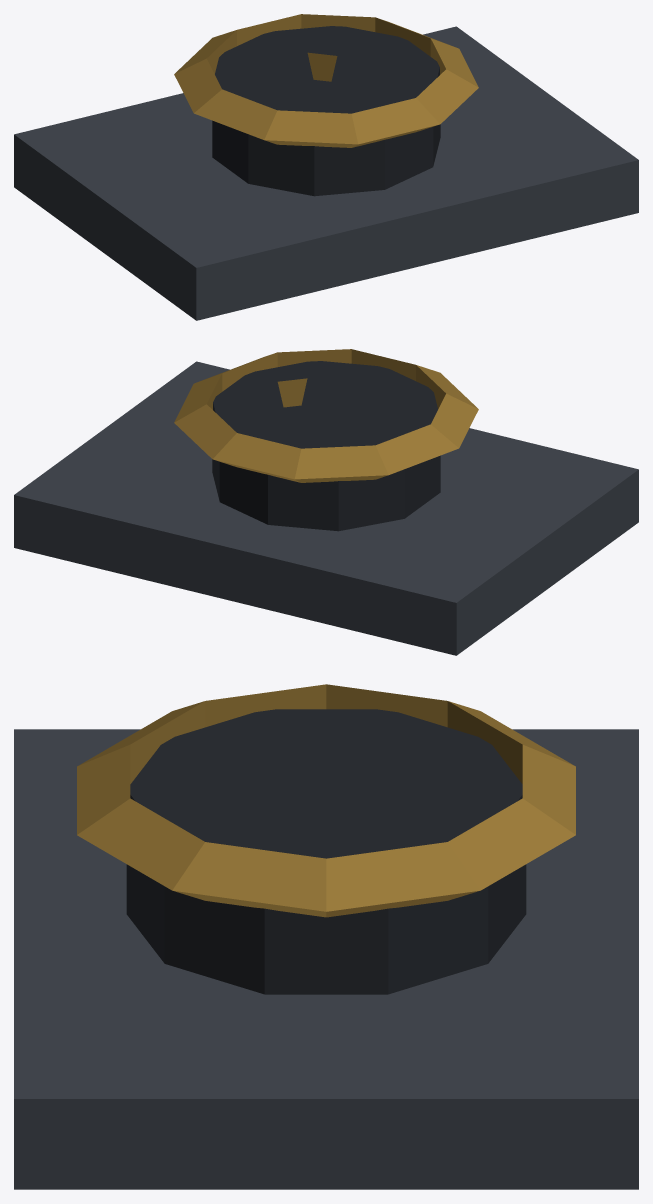
Rendered from droid-power-supply-port.lod.glb.
3 views of the same model, one above another, from view 1: azimuth 30°, elevation 25°; view 2: azimuth 150°, elevation 25°; view 3: azimuth 270°, elevation 25° (orthographic). The views are drawn at different scales.
Parts seen in each view (by area): view 1: m; view 2: m; view 3: m.
Part boxes in pixels (x1,y1,x2,y2): m: [14, 14, 638, 320]; m: [14, 349, 638, 655]; m: [14, 684, 638, 1189].
Size of the model in its own units: 0.1 by 0.0329 by 0.0714.
